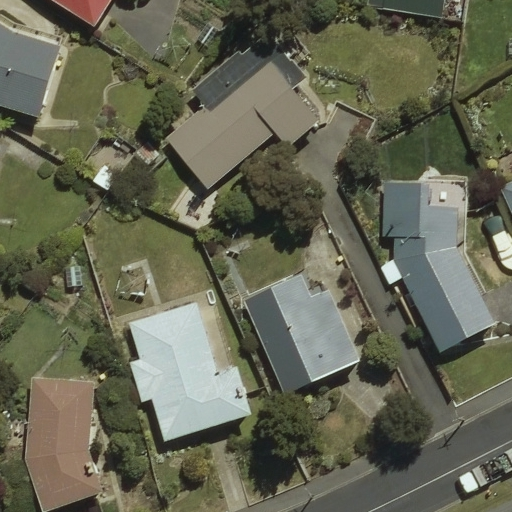DT: (300, 485, 319, 506), (451, 409, 470, 427)
